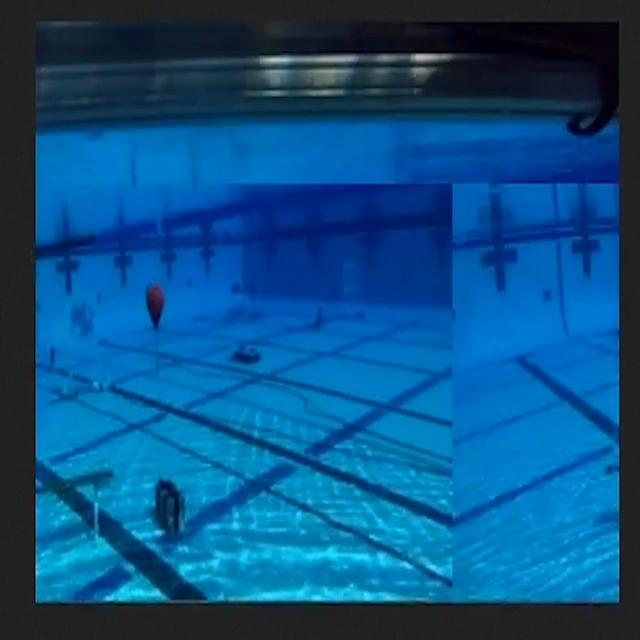Buoy: (141, 274, 171, 339)
